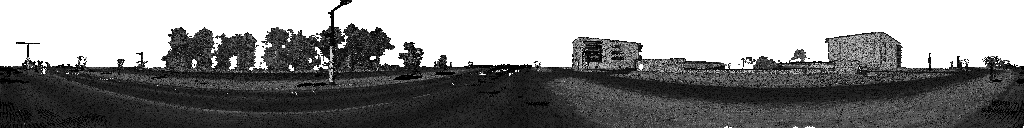light_pole: (329, 0, 350, 90), (16, 42, 40, 70), (136, 53, 147, 70), (957, 56, 960, 68), (929, 53, 930, 68)
traffic_pole: (982, 57, 1009, 82), (116, 60, 124, 75), (960, 60, 967, 72), (533, 62, 540, 70)
